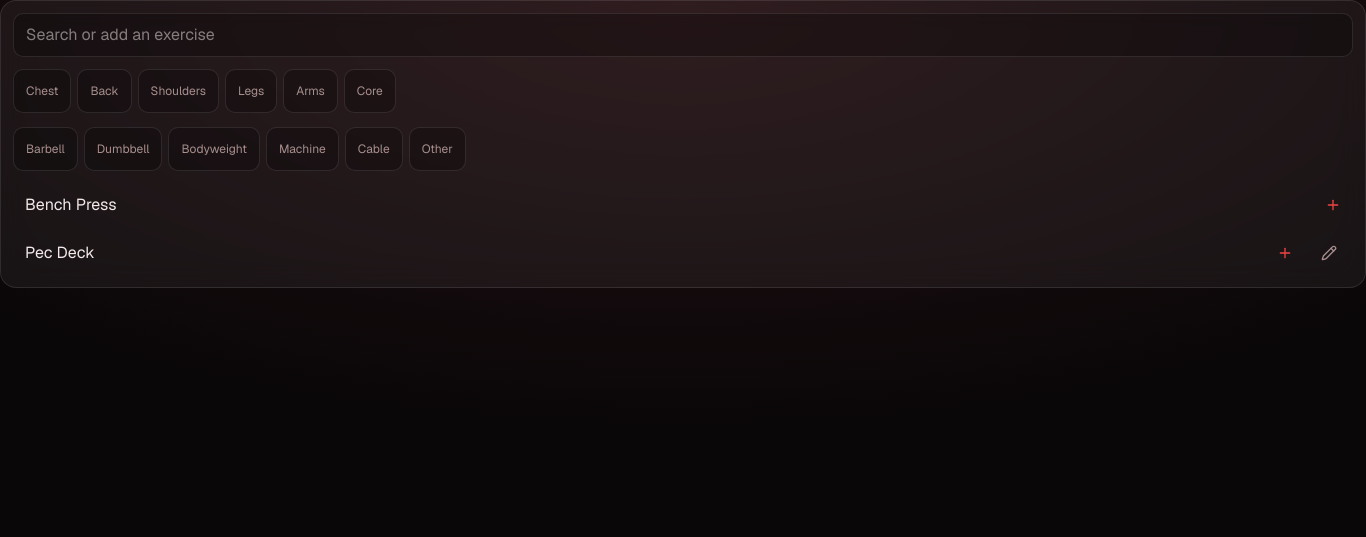
Scenario: ExercisePicker editing › opens the form with the current values
Click the button named "Edit Pec Deck".
click(1331, 253)  # box [1309, 231, 1353, 275]
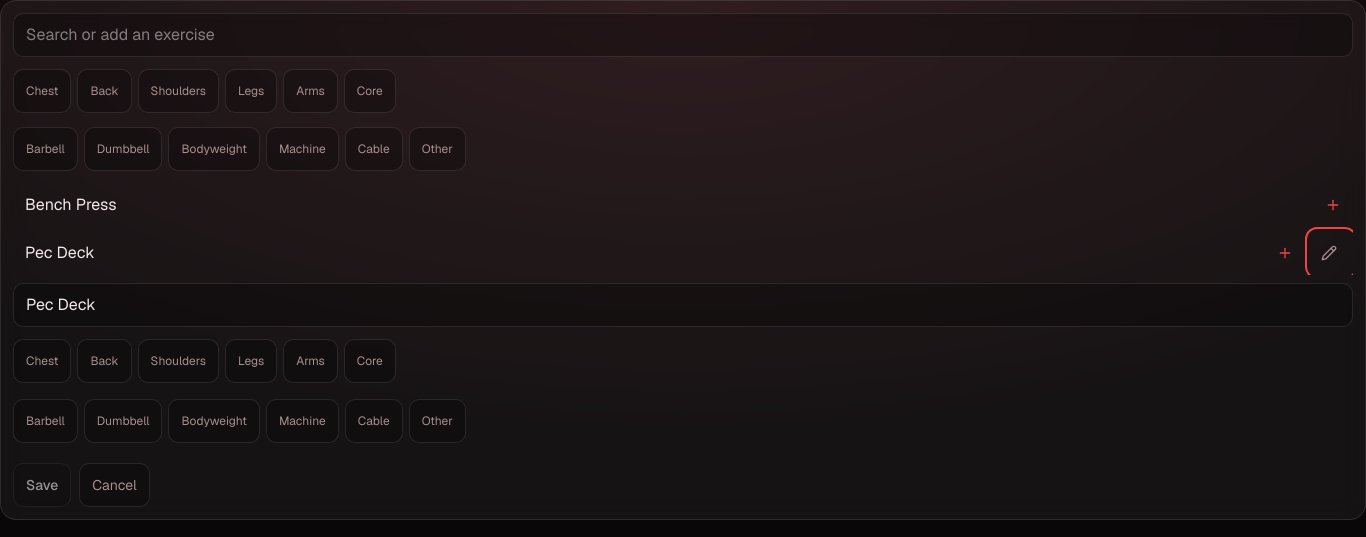
Check: the field named "Exercise name" holds "Pec Deck", box [13, 283, 1353, 327]
Check: the button "Save" is disabled, box [13, 463, 71, 507]
